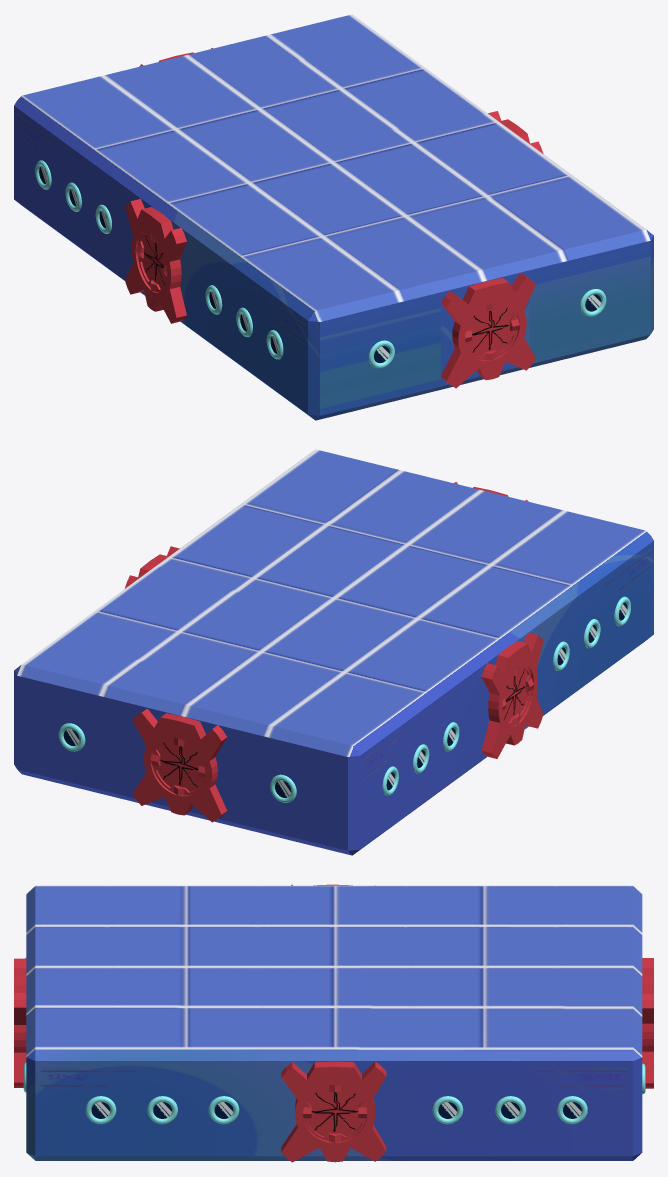
The model's file is BigPlatform1.fbx.
3 renders of one model, top to bottom at view 1: azimuth 30°, elevation 25°; view 2: azimuth 150°, elevation 25°; view 3: azimuth 270°, elevation 25°, orthographic.
Parts seen in each view (by area): view 1: BigPlatform1, BigPlatformDock1, BigPlatformDock4; view 2: BigPlatform1, BigPlatformDock2, BigPlatformDock4; view 3: BigPlatform1, BigPlatformDock3, BigPlatformDock1, BigPlatformDock2, Torus.080, Torus.079, Torus.081, Torus.082, Torus.083, Torus.084.
Part boxes in pixels (bbox=[...]): BigPlatform1: bbox=[14, 14, 653, 420]; BigPlatformDock1: bbox=[440, 272, 535, 388]; BigPlatformDock4: bbox=[125, 199, 186, 323]; BigPlatform1: bbox=[14, 449, 653, 855]; BigPlatformDock2: bbox=[132, 708, 227, 822]; BigPlatformDock4: bbox=[481, 632, 543, 758]; BigPlatform1: bbox=[26, 885, 642, 1160]; BigPlatformDock3: bbox=[281, 1061, 386, 1162]; BigPlatformDock1: bbox=[14, 958, 26, 1087]; BigPlatformDock2: bbox=[642, 958, 653, 1088]; Torus.080: bbox=[147, 1096, 177, 1124]; Torus.079: bbox=[85, 1096, 116, 1124]; Torus.081: bbox=[208, 1096, 239, 1124]; Torus.082: bbox=[432, 1096, 463, 1124]; Torus.083: bbox=[495, 1096, 525, 1124]; Torus.084: bbox=[557, 1096, 587, 1124].
Bounding box in the file's own units: 700 × 201 × 1039.
Materials: 4 (3 with a texture image).
